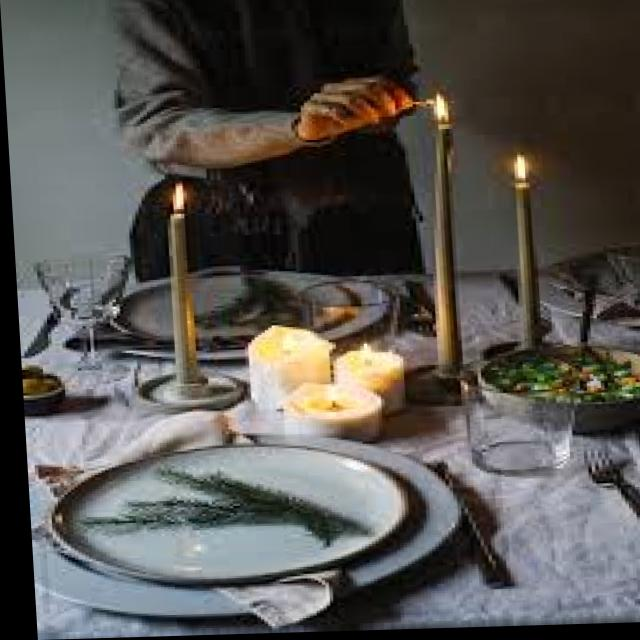fire: (417, 87, 458, 128), (152, 177, 196, 213), (501, 148, 527, 184)
